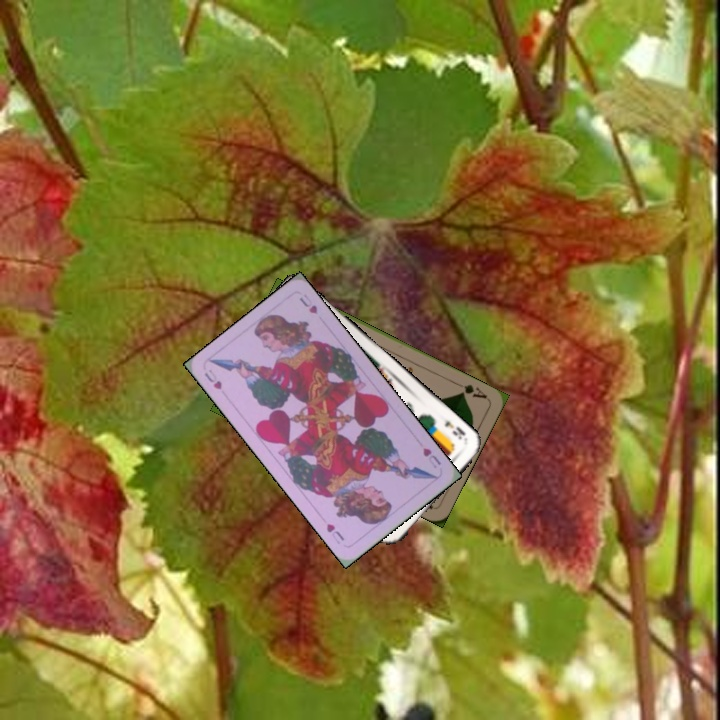EK: (440, 416, 468, 442)
GA: (452, 378, 490, 401)
HU: (419, 443, 444, 471), (200, 365, 225, 392)
